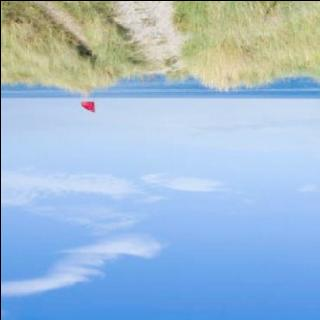Cirrostratus: (0, 165, 320, 320)
